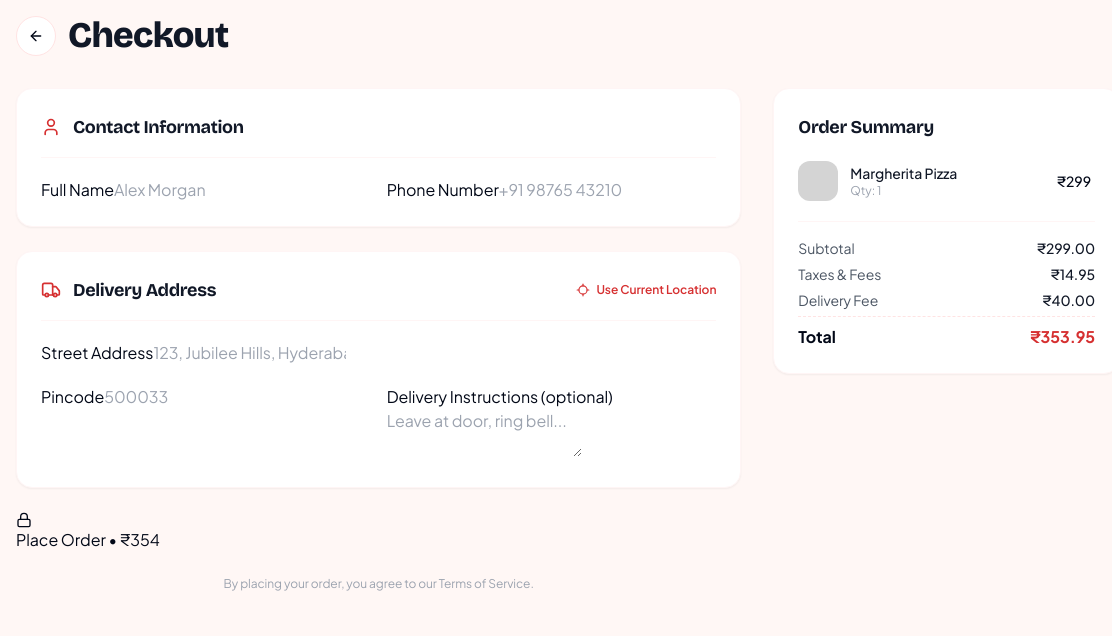
Test: CheckoutPage › shows error under Name when submitted empty
What coordinates should you click on to do the following:
click the button "Place Order • ₹354"
I would click on:
 (88, 532)
Its box is 16,512 -> 160,552.
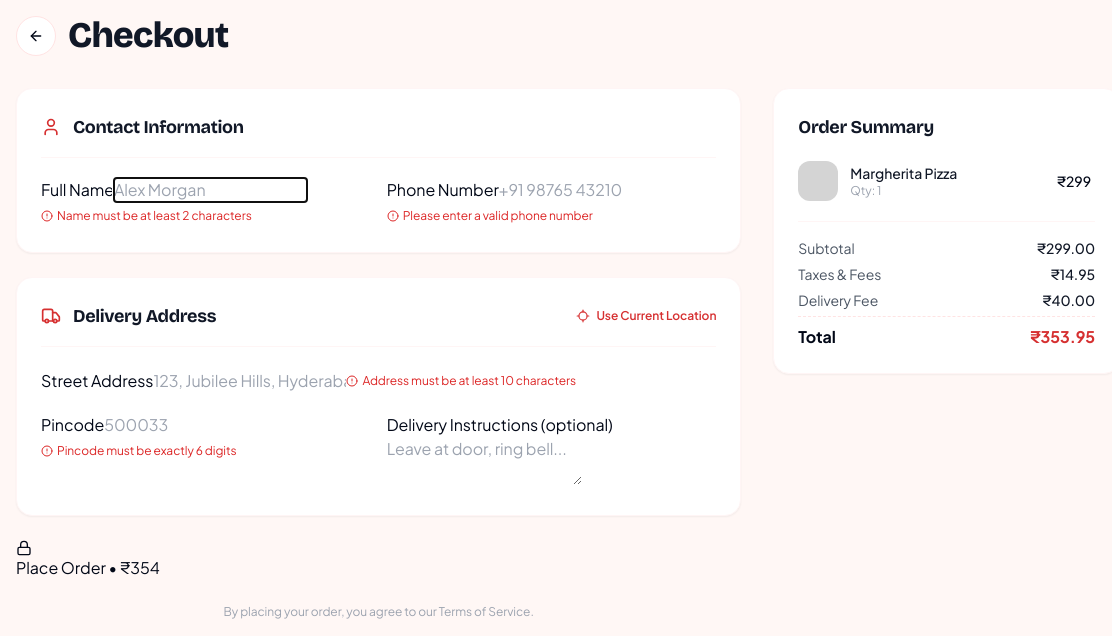
Result: the text "Name must be at least 2 characters" is shown at 41,208 -> 252,224
